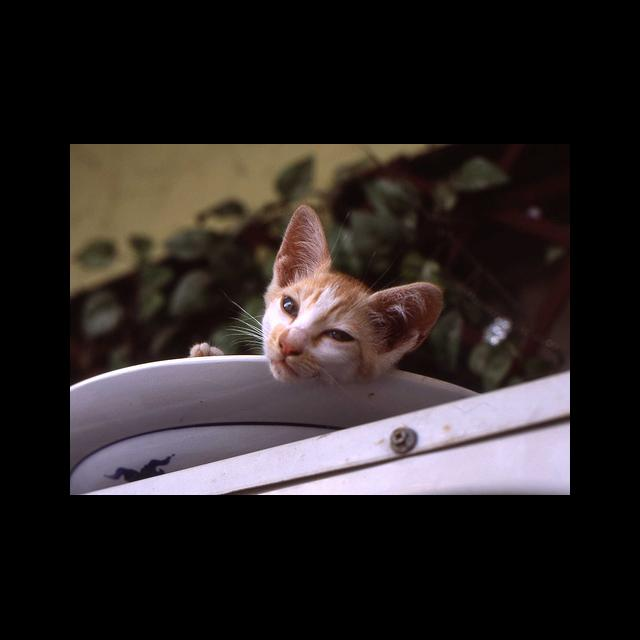animals: (275, 205, 441, 358)
